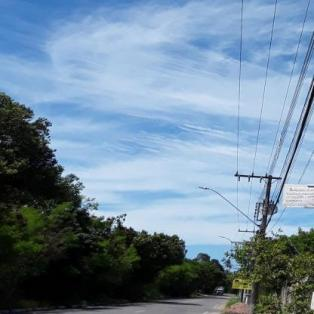Poste: (308, 0, 314, 314)
